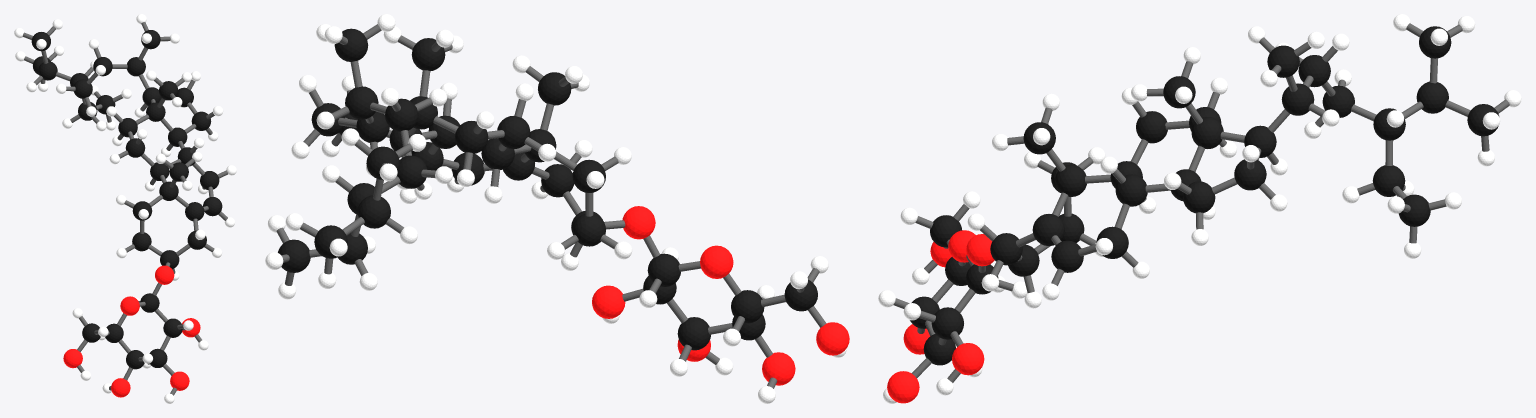
Rendered from molecule.glb.
The picture shows the model from 3 angles, left to right: view 1: azimuth 30°, elevation 25°; view 2: azimuth 150°, elevation 25°; view 3: azimuth 270°, elevation 25°; orthographic projection. The views are drawn at different scales.
Visible parts, largest first — view 1: geometry_24, geometry_19, geometry_17, geometry_22, geometry_26, geometry_5, geometry_14, geometry_29, geometry_38, geometry_27, geometry_36, geometry_3 (+25 smaller); view 2: geometry_22, geometry_19, geometry_28, geometry_17, geometry_25, geometry_24, geometry_29, geometry_38, geometry_20, geometry_5, geometry_18, geometry_34 (+18 smaller); view 3: geometry_26, geometry_28, geometry_13, geometry_34, geometry_38, geometry_31, geometry_11, geometry_9, geometry_15, geometry_27, geometry_14, geometry_36 (+19 smaller).
Part boxes in pixels (<box>): geometry_24: <box>111,378,130,397</box>; geometry_19: <box>120,296,139,315</box>; geometry_17: <box>155,265,174,284</box>; geometry_22: <box>63,349,82,368</box>; geometry_26: <box>170,371,189,390</box>; geometry_5: <box>127,57,145,76</box>; geometry_14: <box>185,202,204,221</box>; geometry_29: <box>132,232,151,251</box>; geometry_38: <box>38,61,57,80</box>; geometry_27: <box>163,318,182,337</box>; geometry_36: <box>146,102,165,121</box>; geometry_3: <box>73,79,92,98</box>; geometry_22: <box>816,322,849,355</box>; geometry_19: <box>700,245,733,278</box>; geometry_28: <box>592,285,625,318</box>; geometry_17: <box>622,206,655,239</box>; geometry_25: <box>677,317,710,350</box>; geometry_24: <box>762,352,795,385</box>; geometry_29: <box>572,213,605,246</box>; geometry_38: <box>357,195,390,228</box>; geometry_20: <box>731,290,764,323</box>; geometry_5: <box>345,86,378,119</box>; geometry_18: <box>647,253,680,286</box>; geometry_34: <box>497,116,530,148</box>; geometry_26: <box>887,371,919,403</box>; geometry_28: <box>952,343,984,375</box>; geometry_13: <box>1051,240,1083,272</box>; geometry_34: <box>1136,111,1167,143</box>; geometry_38: <box>1416,81,1448,113</box>; geometry_31: <box>1055,164,1086,196</box>; geometry_11: <box>1115,174,1147,206</box>; geometry_9: <box>1183,181,1215,213</box>; geometry_15: <box>990,233,1022,265</box>; geometry_27: <box>931,307,963,339</box>; geometry_14: <box>1032,214,1064,245</box>; geometry_36: <box>1191,117,1223,148</box>.
Size of the model in its own units: 0.1759 by 0.1992 by 0.257.
